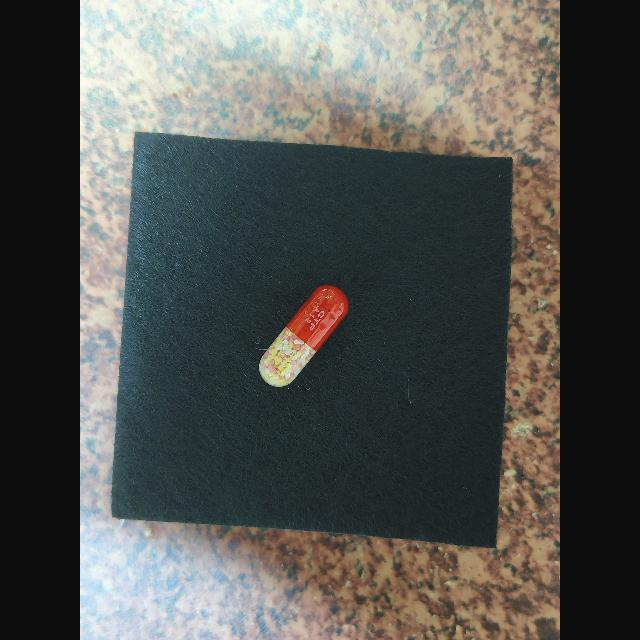Intact Capsule: (259, 285, 349, 387)
